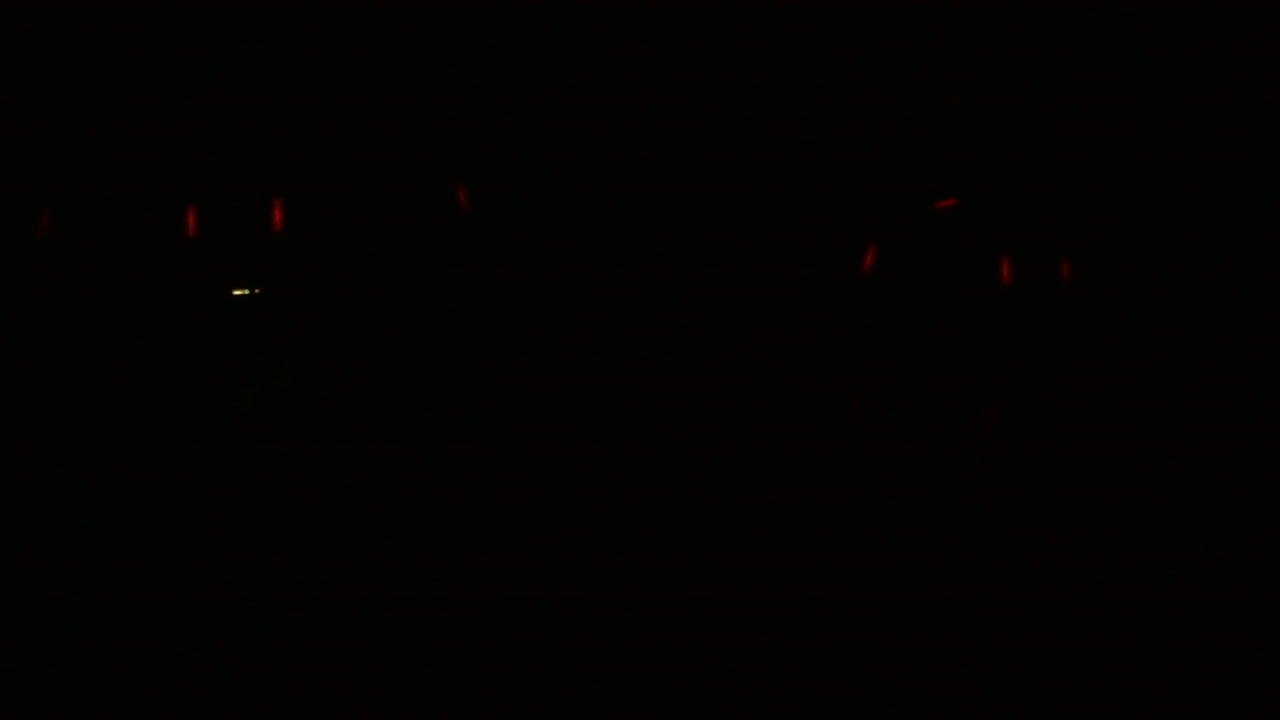pair1: (179, 196, 288, 239), (995, 253, 1070, 283)
